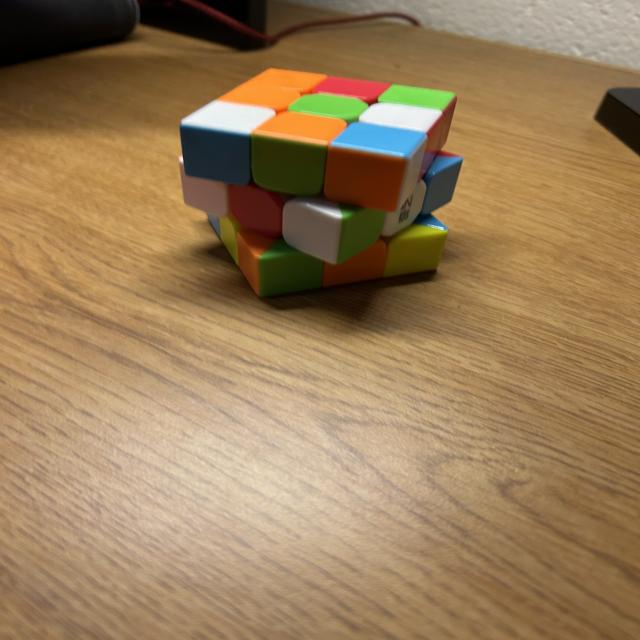Rubiks Cube: (179, 66, 465, 296)
